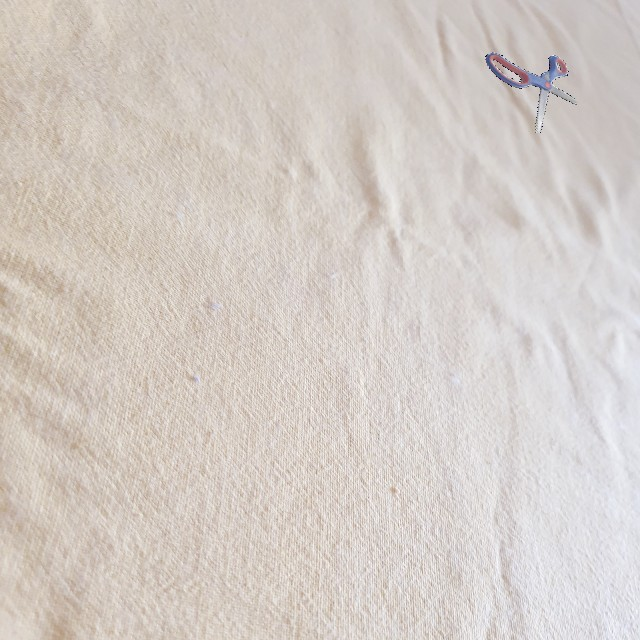scissors: (485, 52, 577, 133)
